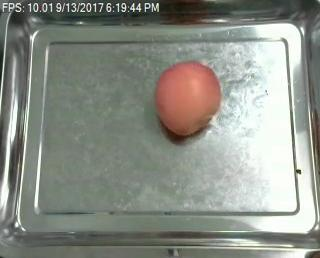apple: (153, 61, 221, 137)
